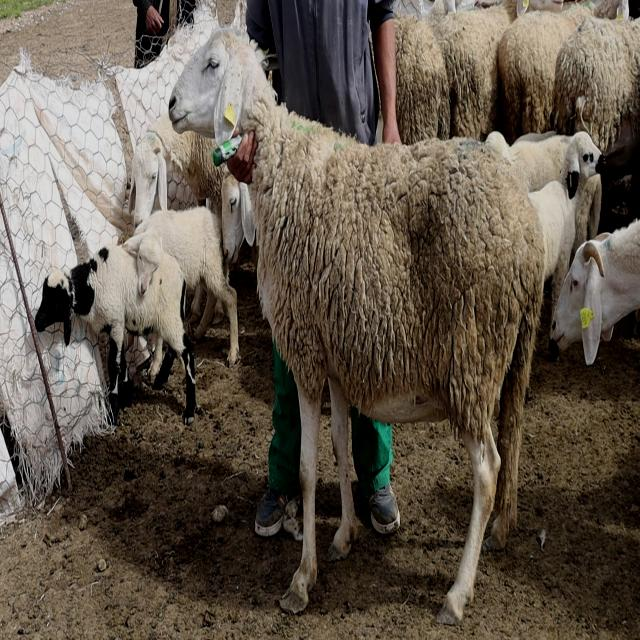Score_3: (169, 28, 545, 624)
